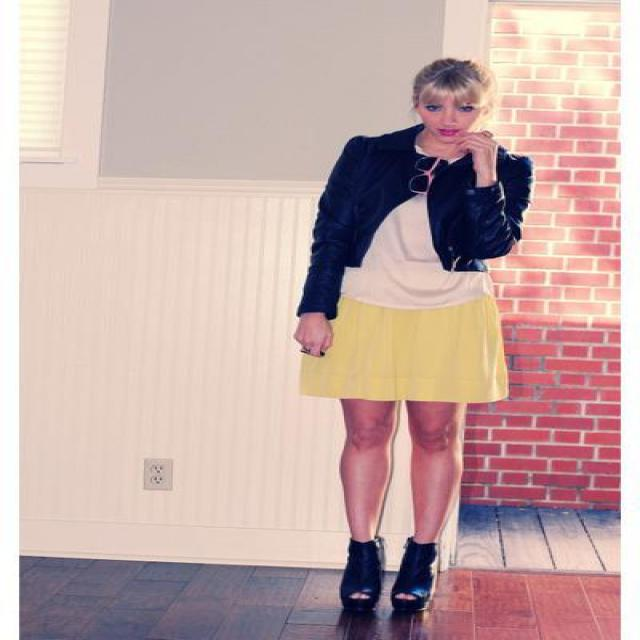jacket: (298, 124, 530, 319)
shirt: (341, 200, 493, 308)
shoe: (344, 538, 435, 588)
skirt: (301, 296, 507, 422)
